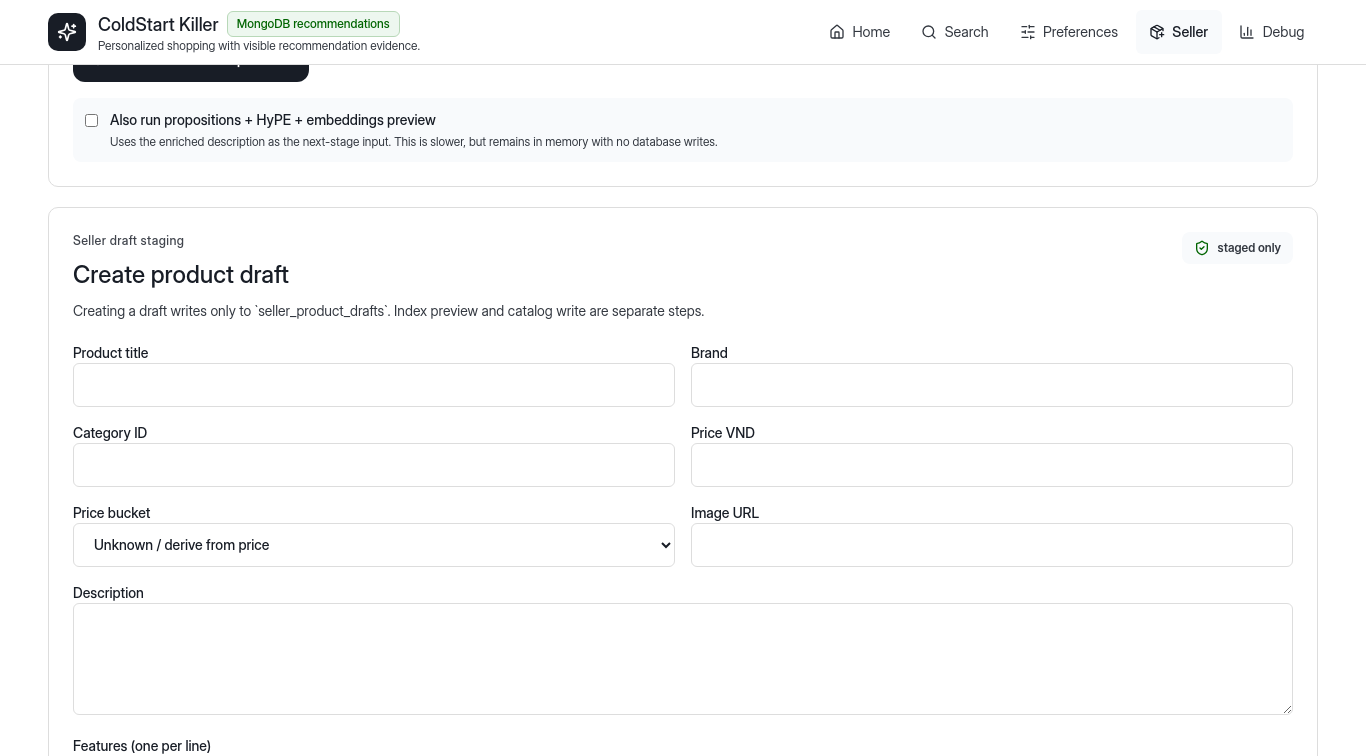
Test case: Phase 11 routes › renders web enrichment provider setup state without auto-applying
This screenshot has width=1366, height=756.
(page scrolled)
In the field labelled "Product title": coordinates (374, 385) [73,363,675,407], type "Seller Sunscreen"
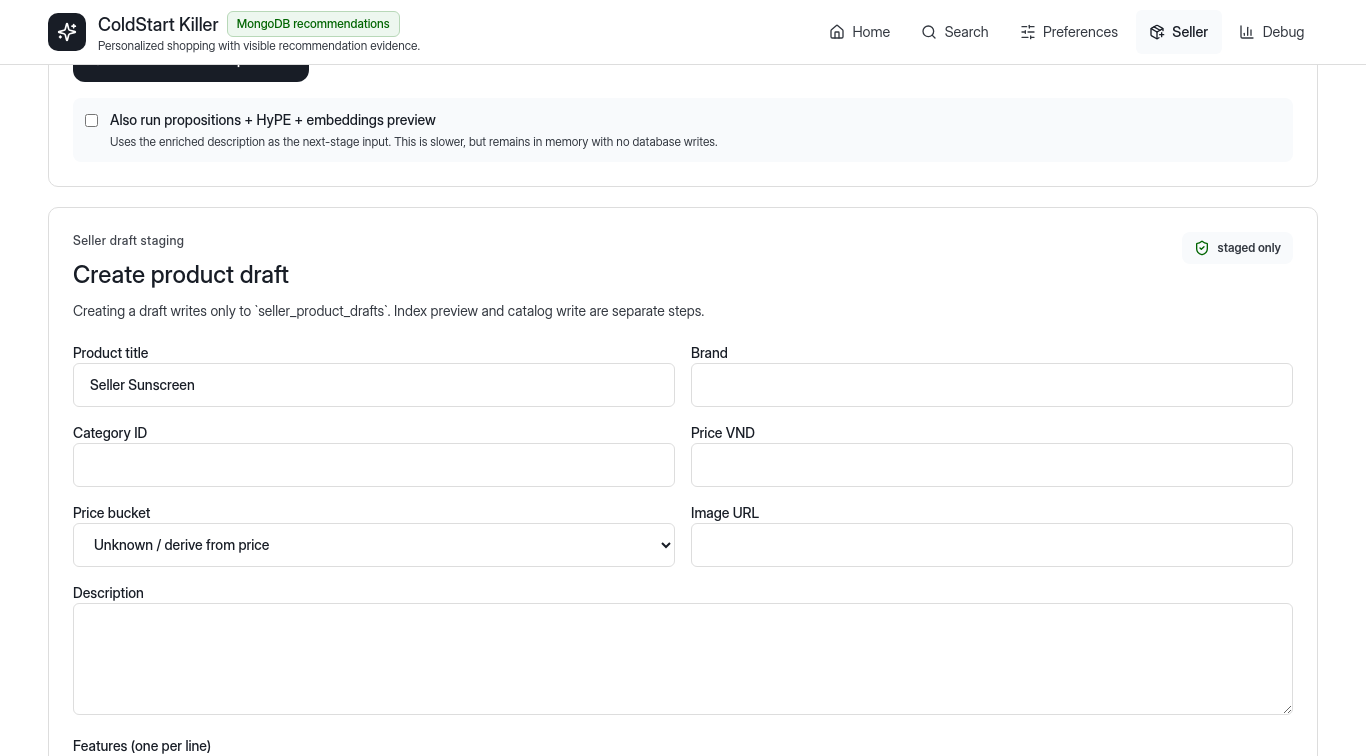
In the field labelled "Category ID": coordinates (374, 465) [73,443,675,487], type "all_beauty"
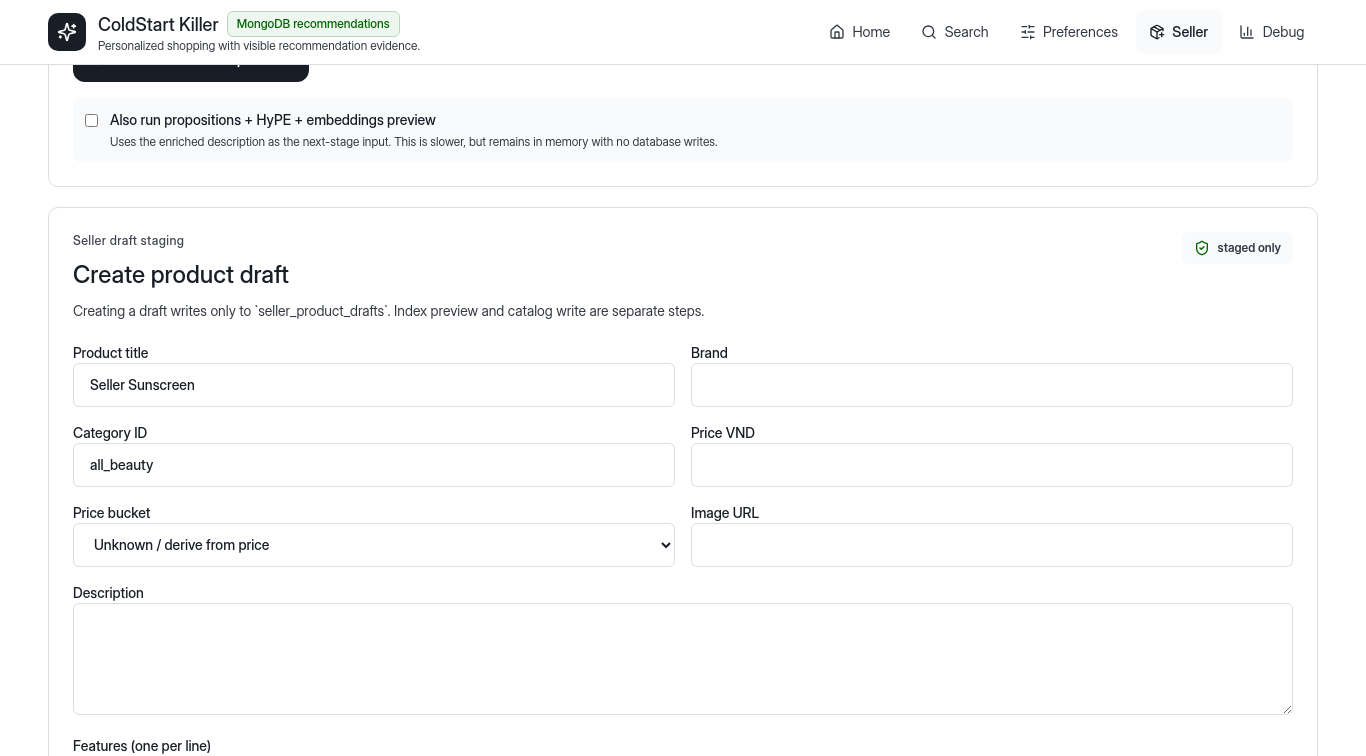
In the text box labelled "Description": coordinates (683, 659) [73,603,1293,715], type "Lightweight daily sunscreen for oily skin with comfortable finish."
(page scrolled)
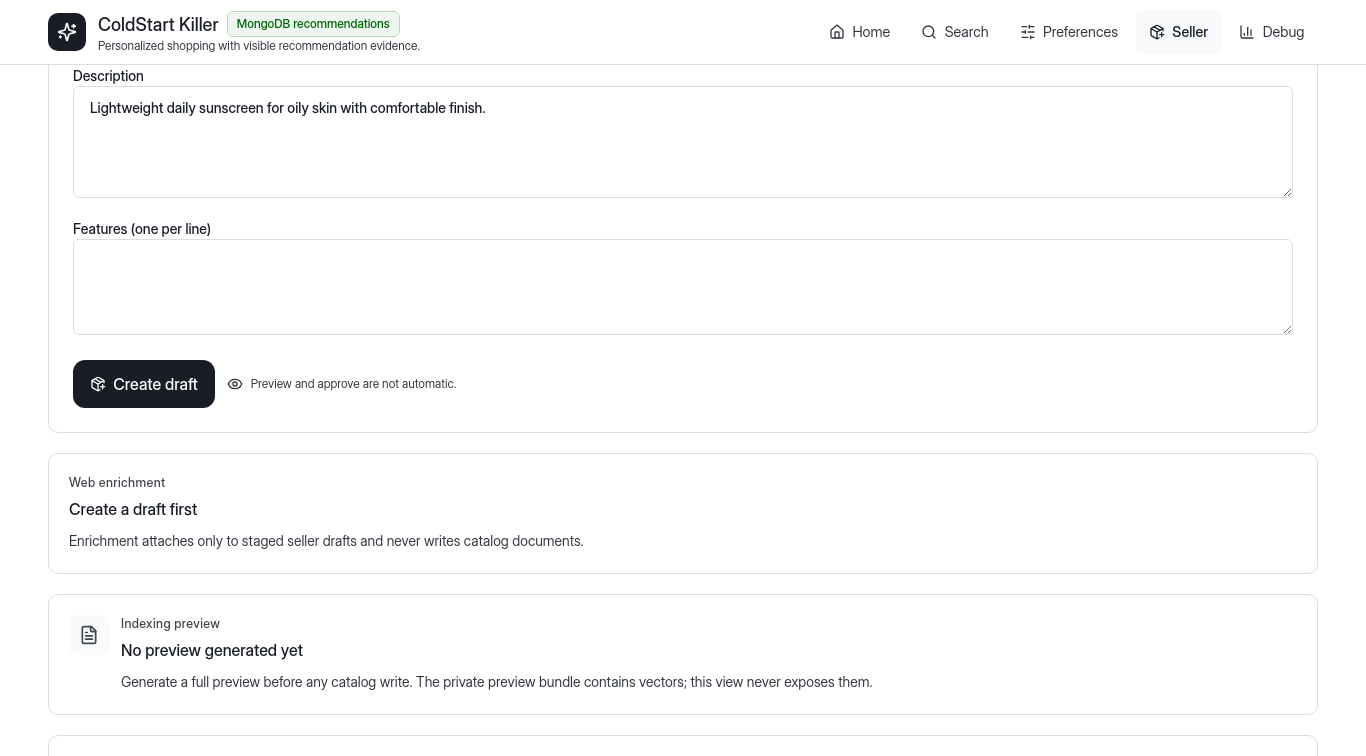
Click the button "Create draft": coordinates (144, 384) [73,360,215,408]
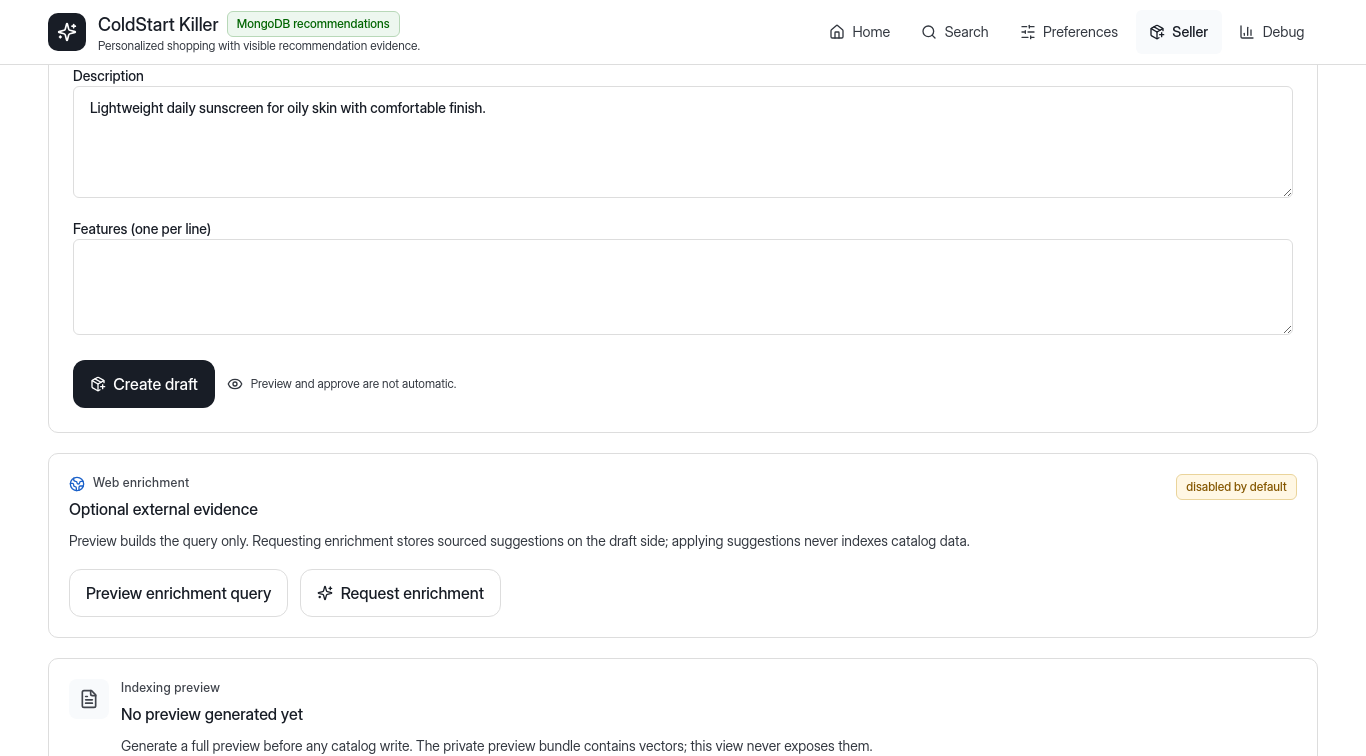
Click the button "Preview enrichment query": coordinates (179, 593) [69,569,288,618]
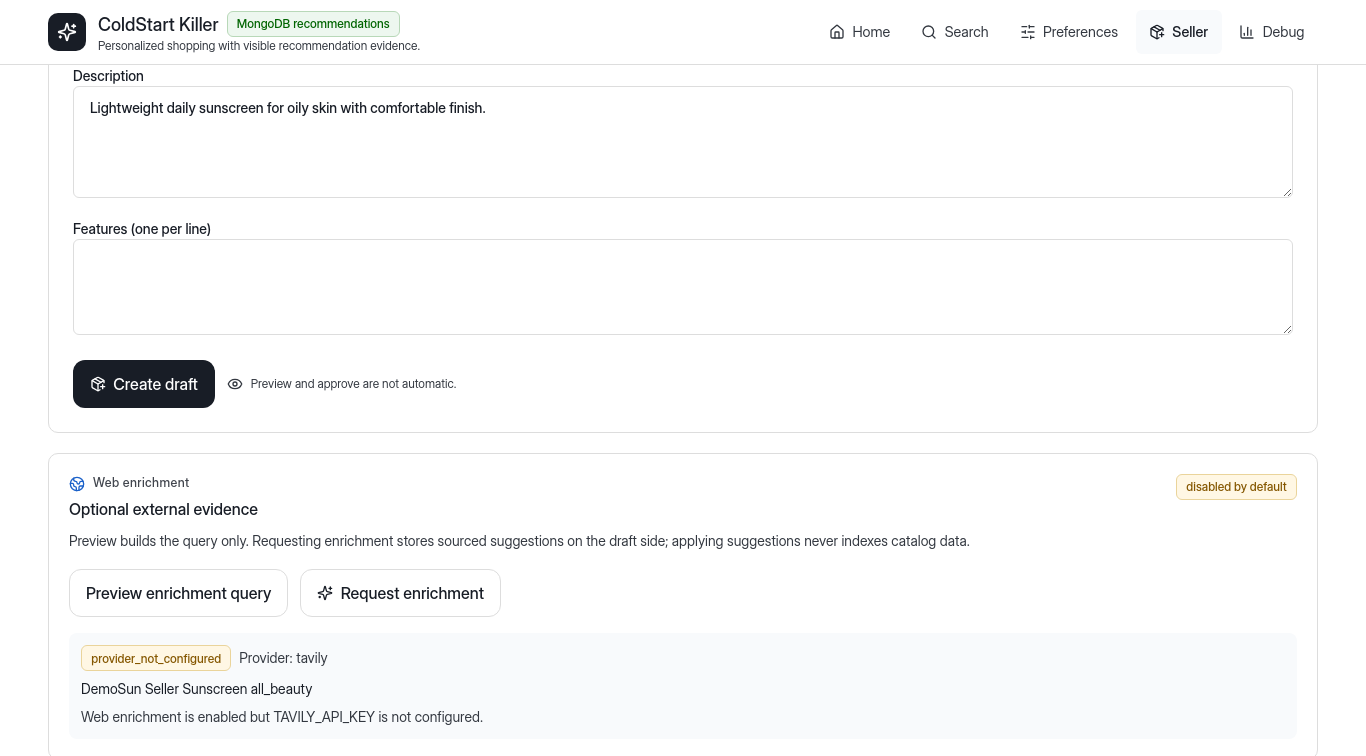
Expected: the text "provider_not_configured" is shown, [81,646,231,671]
Expected: the text "Web enrichment is enabled but TAVILY_API_KEY is not configured." is shown, [81,708,483,725]
